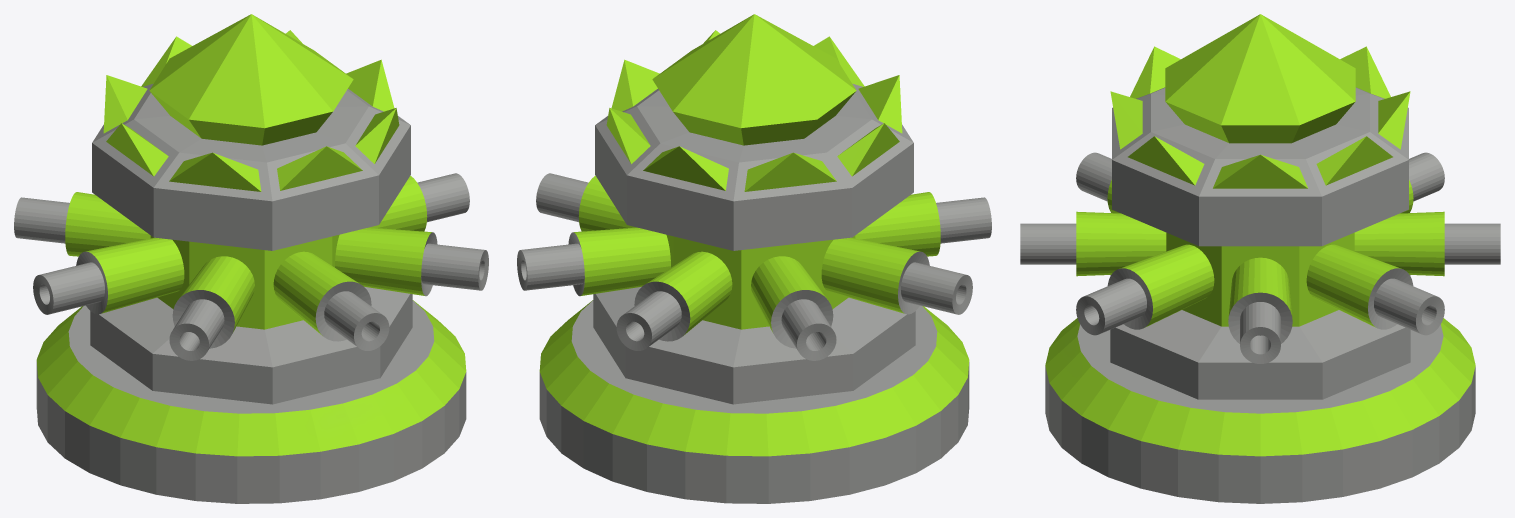
File: spikey_upgraded.fbx
3 renders of one model, left to right at view 1: azimuth 30°, elevation 25°; view 2: azimuth 150°, elevation 25°; view 3: azimuth 270°, elevation 25°, orthographic.
Parts seen in each view (by area): view 1: Circle; view 2: Circle; view 3: Circle.
Part boxes in pixels (<box>): Circle: <box>14,14,488,503</box>; Circle: <box>517,14,991,503</box>; Circle: <box>1020,14,1500,503</box>.
Size of the model in its own units: 223 by 205 by 223.
1 material, 1 textured.
